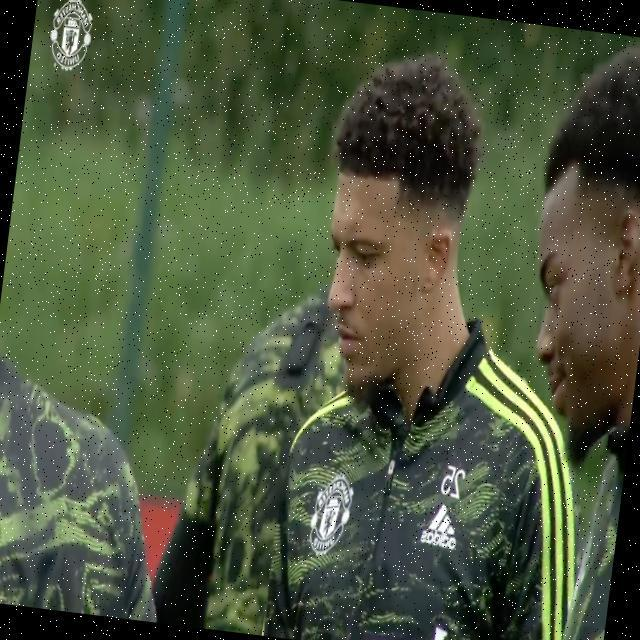Adidas: (418, 500, 461, 550)
